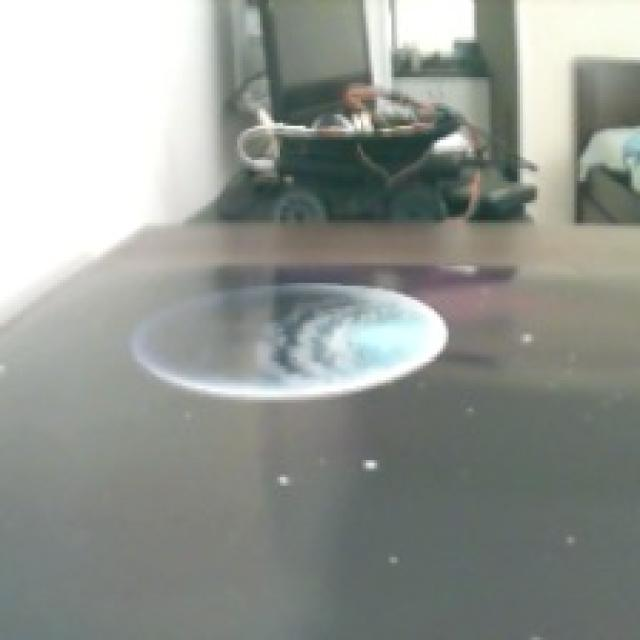Earth: (133, 285, 449, 401)
